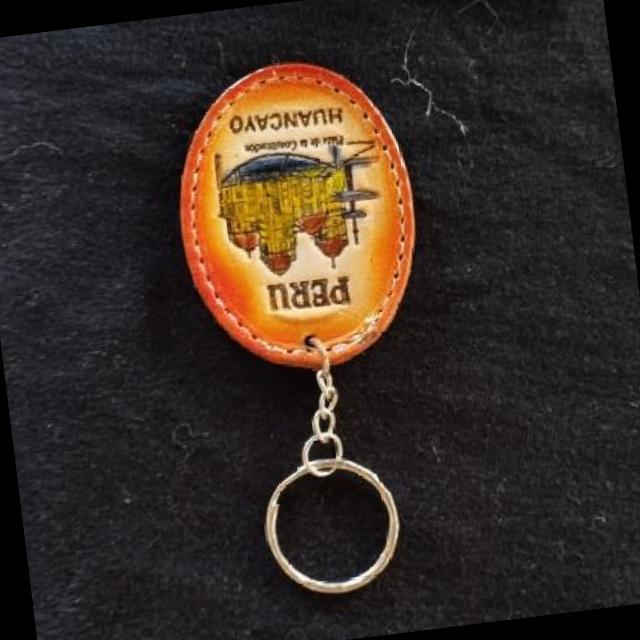Llavero: (160, 48, 434, 384)
